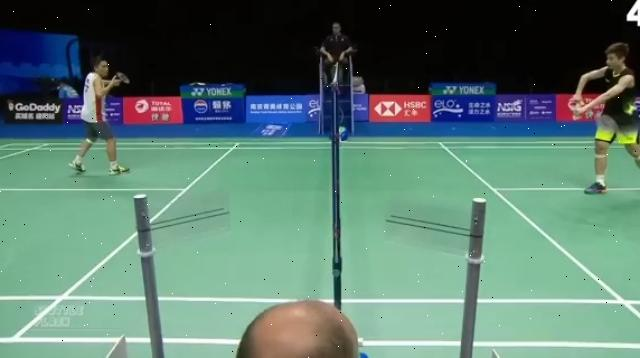Shuttlecock: (572, 109, 584, 121)
